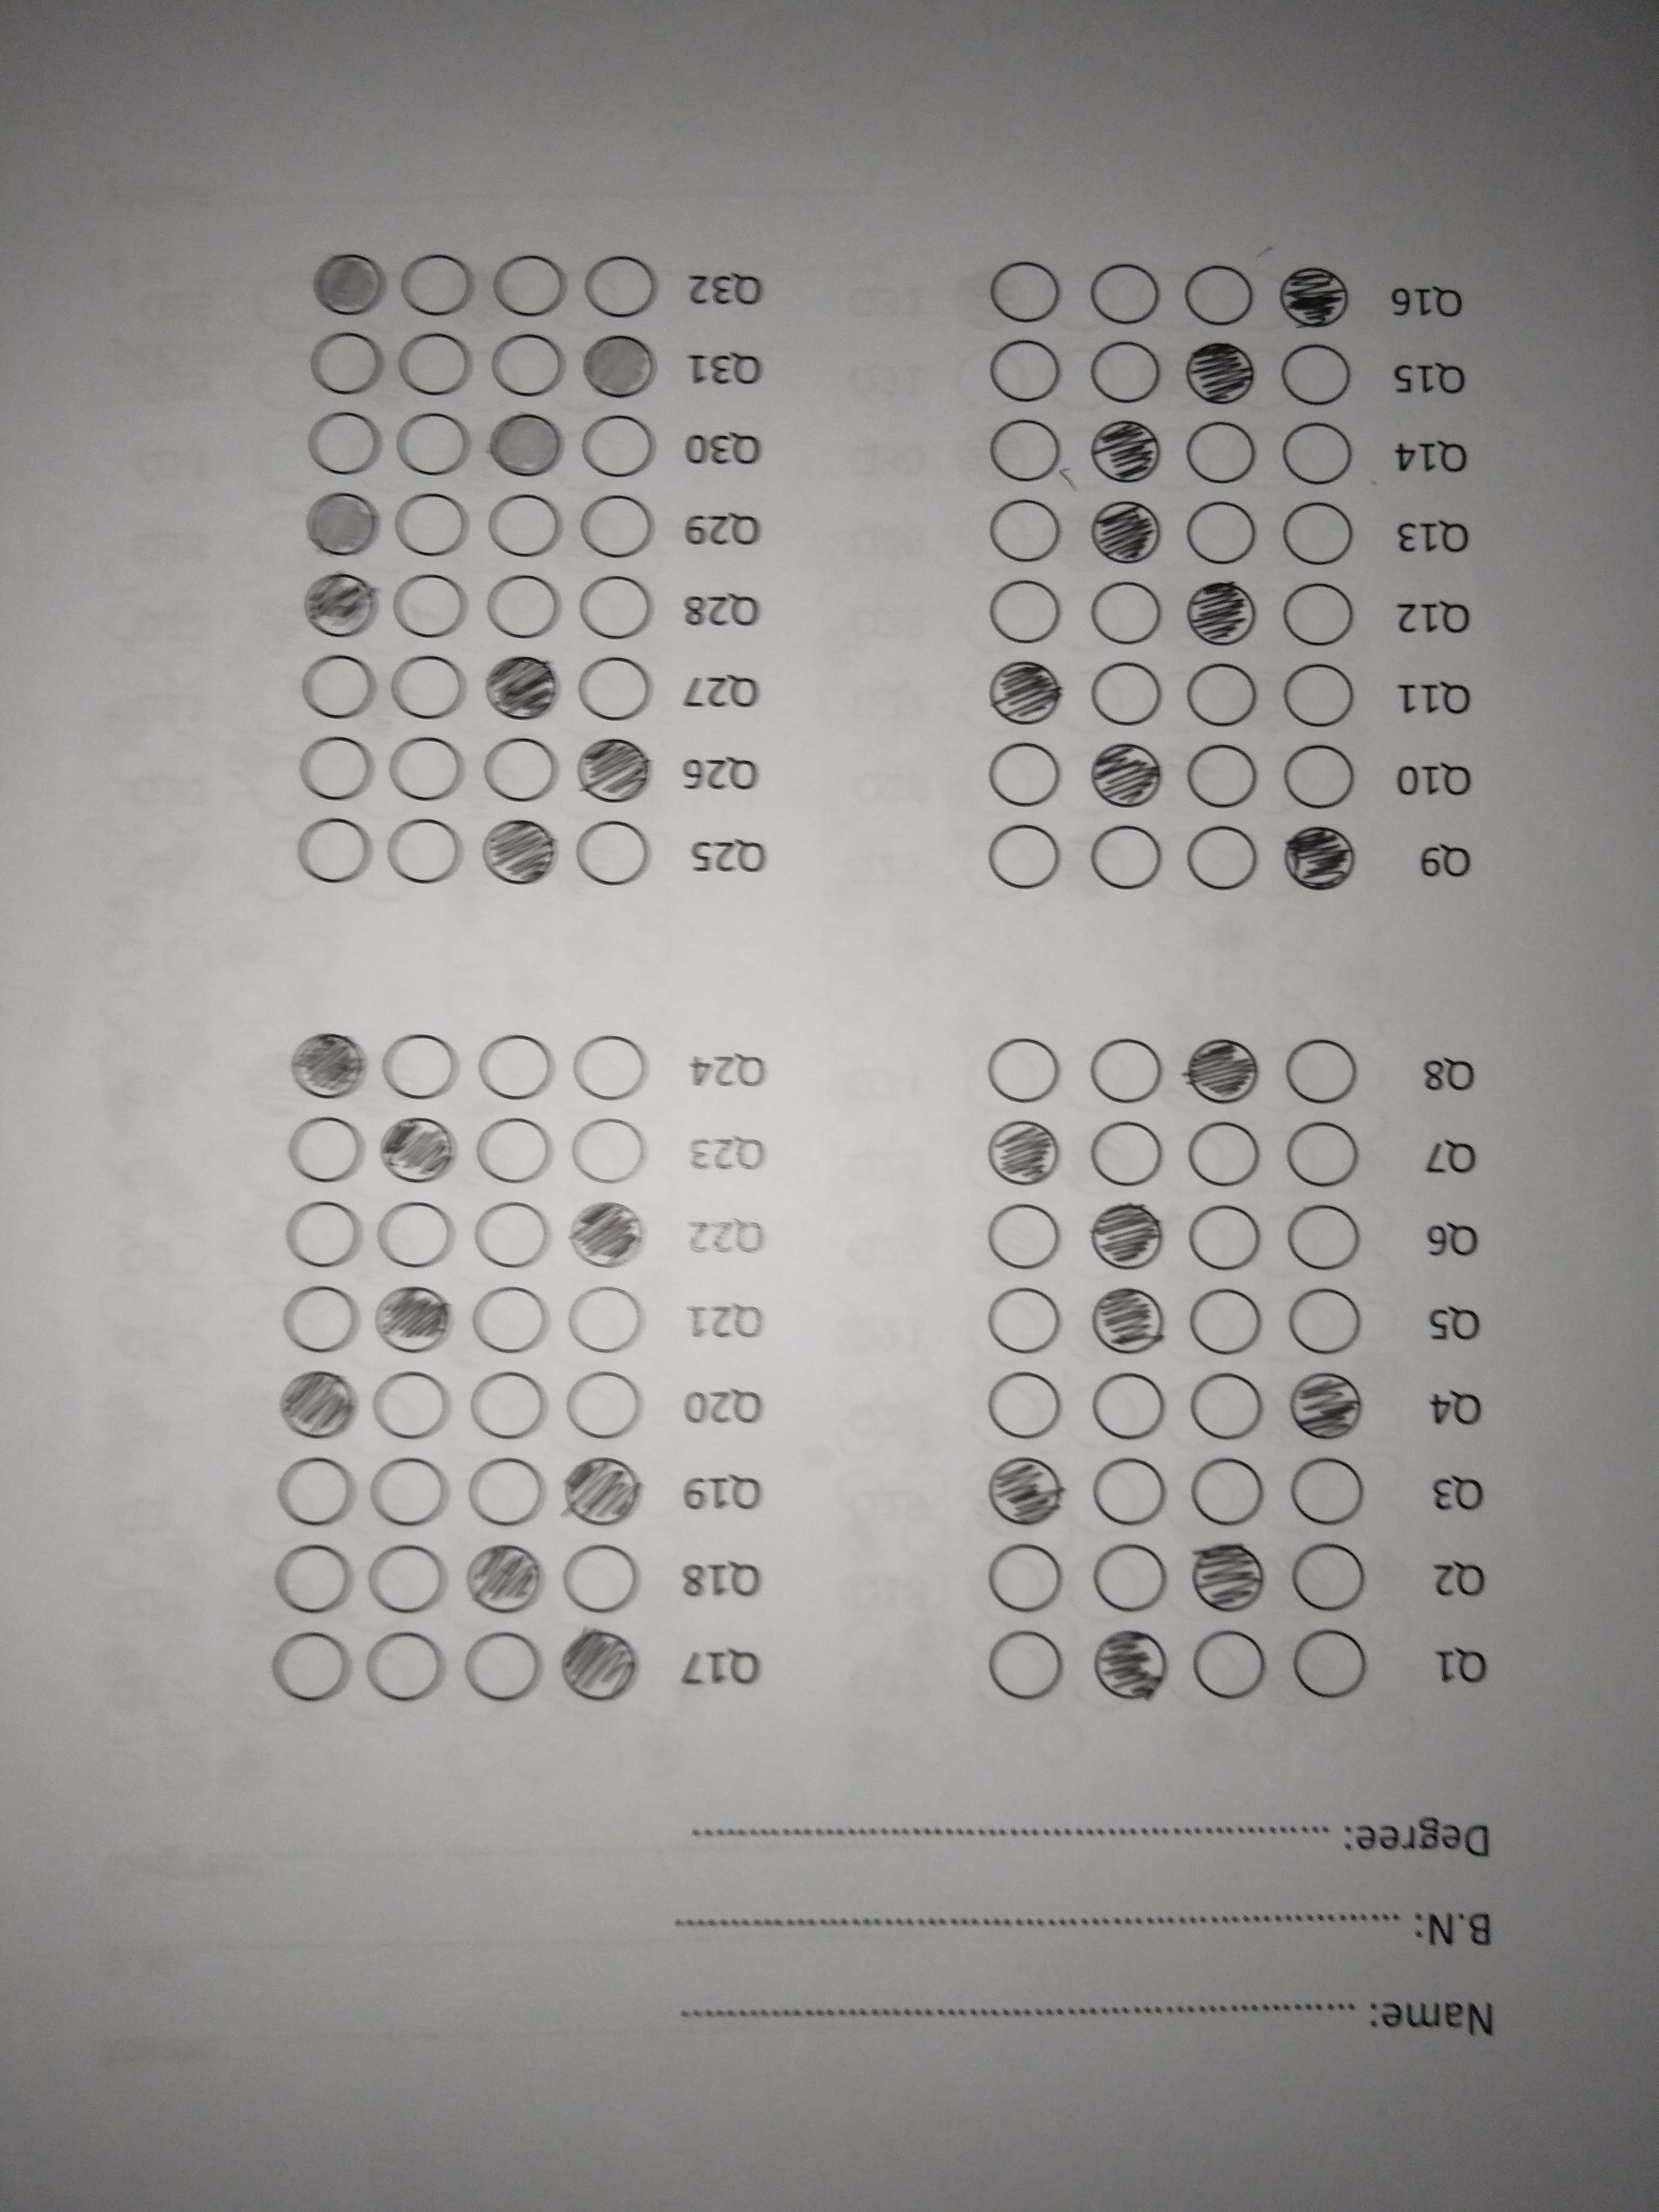not-c: (978, 1627, 1070, 1705), (976, 819, 1065, 894), (272, 1623, 352, 1703), (983, 1029, 1065, 1108), (274, 1456, 357, 1533), (460, 1627, 544, 1703), (1185, 1627, 1269, 1703), (270, 1541, 357, 1615), (362, 1629, 444, 1703), (462, 1456, 549, 1526), (563, 1536, 640, 1615), (1290, 1625, 1366, 1703), (378, 1029, 458, 1104), (1185, 1369, 1267, 1442), (298, 732, 382, 803), (289, 817, 375, 887), (563, 1285, 648, 1355), (558, 1371, 643, 1440), (983, 1280, 1061, 1355), (476, 1031, 556, 1104), (570, 1031, 650, 1104), (1284, 1454, 1364, 1527), (296, 651, 378, 723), (369, 1371, 453, 1440), (300, 409, 385, 477), (366, 1458, 451, 1526), (1288, 1540, 1364, 1615), (1190, 1453, 1267, 1527), (1286, 1197, 1363, 1271), (985, 1541, 1063, 1615), (985, 1369, 1063, 1442), (983, 495, 1063, 566), (570, 817, 652, 887), (491, 247, 568, 320), (368, 1545, 444, 1618), (1087, 1456, 1166, 1527), (1281, 655, 1359, 726), (1086, 1116, 1166, 1186), (1183, 1122, 1263, 1191), (1082, 826, 1162, 895), (392, 489, 474, 557), (284, 1116, 366, 1184), (279, 1282, 361, 1350), (484, 331, 568, 397), (399, 249, 476, 320), (577, 653, 653, 725), (1091, 1541, 1168, 1613), (1091, 1369, 1168, 1440), (1086, 1033, 1162, 1104), (1183, 655, 1260, 726), (284, 1198, 362, 1268), (376, 1198, 455, 1268), (392, 571, 472, 639), (1182, 498, 1262, 566), (983, 415, 1063, 482), (1187, 1284, 1262, 1355), (580, 249, 657, 319), (577, 570, 653, 639), (986, 254, 1063, 324), (307, 329, 385, 397), (389, 732, 467, 799), (471, 1372, 549, 1440), (483, 495, 563, 561), (483, 573, 563, 639), (474, 1116, 554, 1183), (981, 742, 1061, 808), (387, 657, 469, 721), (390, 413, 474, 475), (399, 326, 472, 397), (1288, 1282, 1359, 1355), (986, 1200, 1061, 1270), (1279, 577, 1354, 646), (1087, 336, 1162, 406), (387, 815, 464, 883), (1187, 1205, 1263, 1273), (986, 577, 1063, 644), (483, 737, 561, 803), (471, 1287, 549, 1353), (985, 334, 1063, 401), (568, 1118, 648, 1183), (1183, 258, 1255, 329), (1185, 822, 1258, 892), (1284, 737, 1354, 810), (472, 1204, 551, 1268), (1089, 657, 1161, 726), (1288, 1118, 1361, 1186), (1185, 740, 1258, 808), (1283, 1038, 1358, 1104), (1277, 421, 1352, 488), (1279, 341, 1354, 408), (579, 495, 655, 559), (1283, 498, 1354, 566), (580, 416, 657, 479), (1089, 260, 1159, 326), (1091, 582, 1162, 646), (1187, 423, 1255, 486)
taken-c: (1091, 1625, 1173, 1703), (558, 1627, 640, 1703), (369, 1280, 453, 1355), (1089, 733, 1166, 812), (279, 1369, 359, 1442), (1188, 1540, 1270, 1611), (481, 812, 556, 888), (1288, 1367, 1363, 1444), (988, 1453, 1065, 1527), (467, 1540, 544, 1615), (289, 1029, 368, 1103), (301, 488, 382, 559), (488, 406, 565, 479), (568, 1197, 645, 1270), (1281, 820, 1359, 892), (484, 650, 559, 723), (1089, 1200, 1164, 1273), (1091, 1285, 1166, 1359), (380, 1115, 457, 1186), (563, 1456, 641, 1526), (314, 249, 389, 320), (988, 655, 1063, 726), (577, 735, 653, 805), (582, 333, 659, 401), (303, 570, 376, 639), (1279, 261, 1352, 331), (1185, 578, 1258, 648), (986, 1118, 1060, 1188), (1185, 1038, 1260, 1106), (1182, 338, 1258, 404), (1089, 416, 1162, 484), (1091, 498, 1162, 566)
